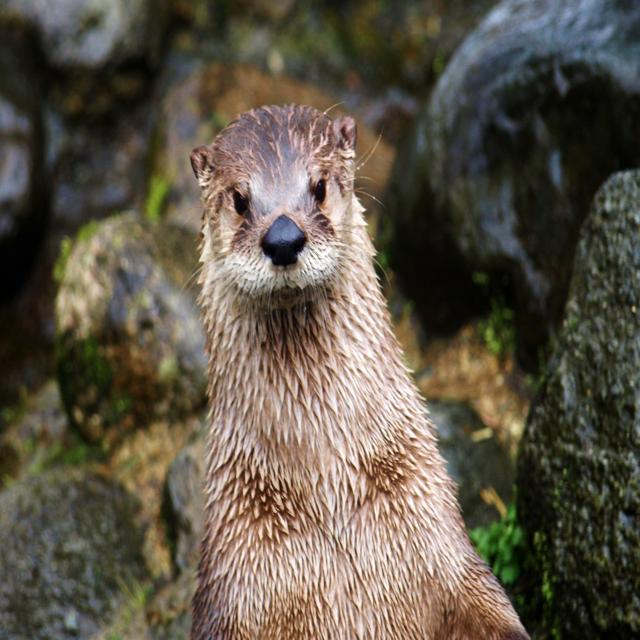otter: (193, 104, 531, 640)
